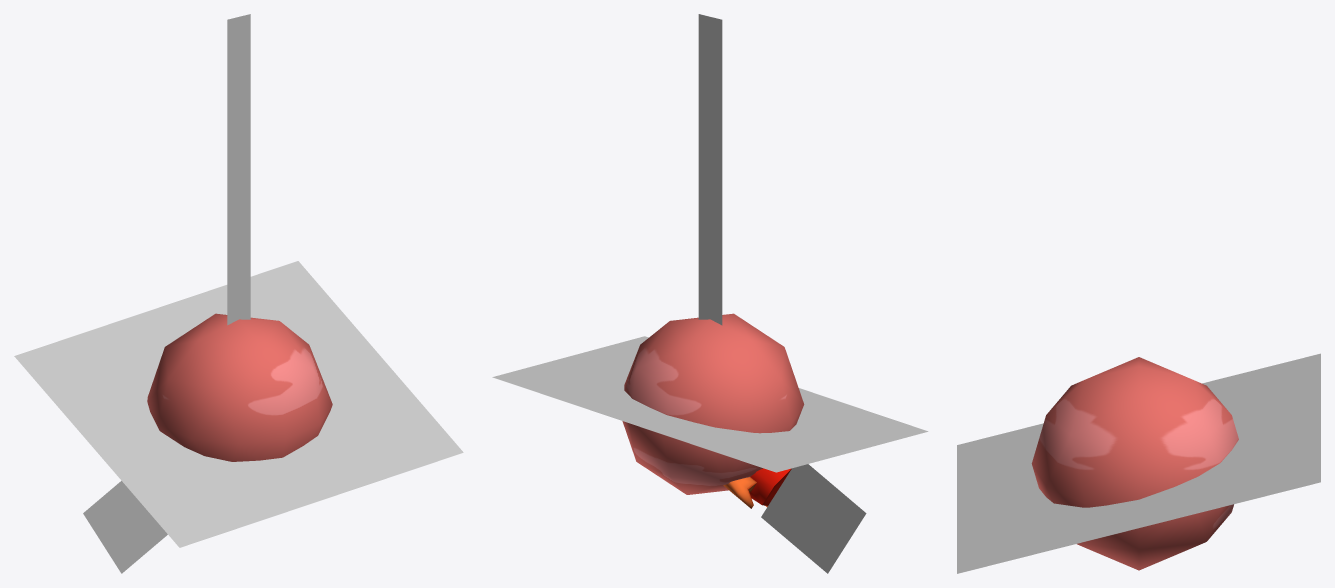
The model's file is planet.FBX.
The picture shows the model from 3 angles, left to right: view 1: azimuth 30°, elevation 25°; view 2: azimuth 150°, elevation 25°; view 3: azimuth 270°, elevation 25°; orthographic projection. The views are drawn at different scales.
Visible parts, largest first — view 1: planetRing, planet, rope, rocket; view 2: planet, planetRing, rocket, rope; view 3: planetRing, planet.
Part boxes in pixels (x1,y1,x2,y2): planetRing: [14, 261, 463, 547]; planet: [147, 313, 332, 461]; rope: [227, 14, 250, 325]; rocket: [83, 481, 167, 573]; planet: [622, 313, 804, 494]; planetRing: [492, 336, 928, 472]; rocket: [723, 464, 866, 573]; rope: [698, 14, 722, 325]; planetRing: [957, 353, 1320, 573]; planet: [1031, 357, 1238, 570].
Size of the model in its own units: 3.38 by 5.67 by 3.09.
